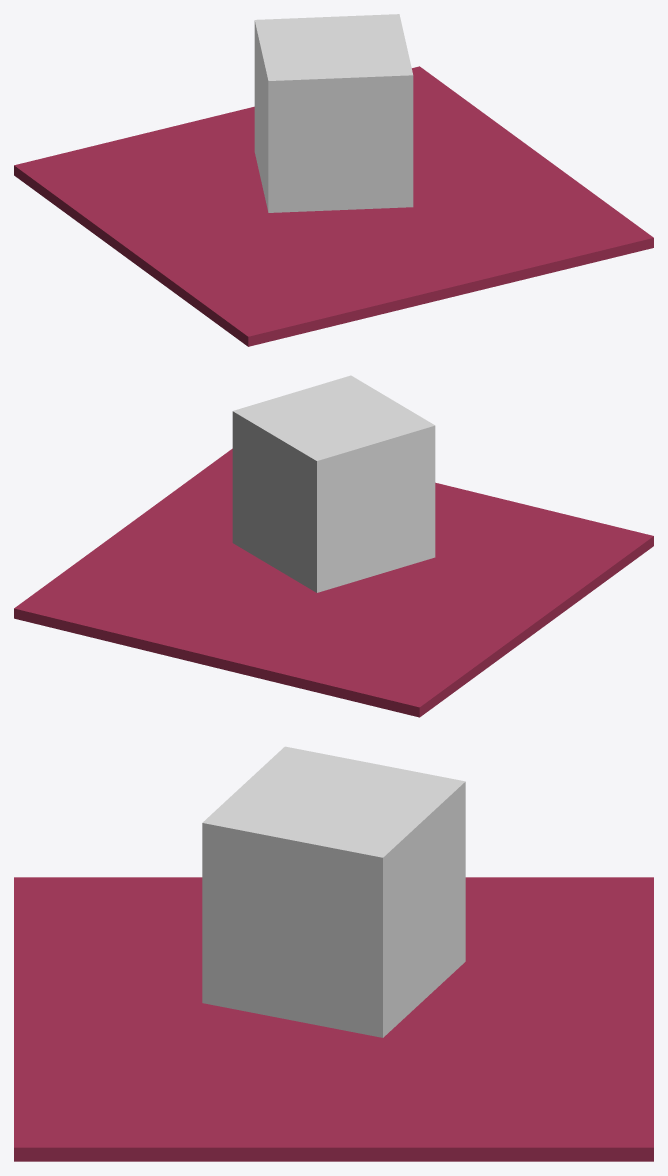
The model's file is Test_LightCamera.dae.
The picture shows the model from 3 angles, top to bottom: view 1: azimuth 30°, elevation 25°; view 2: azimuth 150°, elevation 25°; view 3: azimuth 270°, elevation 25°; orthographic projection. The views are drawn at different scales.
Visible parts, largest first — view 1: Cube, BigCube; view 2: Cube, BigCube; view 3: Cube, BigCube.
Boxes of the visible parts, x1,y1,x2,y2 form: Cube: (14, 66, 653, 346); BigCube: (254, 14, 413, 212); Cube: (14, 448, 653, 717); BigCube: (232, 375, 435, 592); Cube: (14, 877, 653, 1161); BigCube: (202, 746, 465, 1037).
Bounding box in the file's own units: 16.73 × 16.73 × 6.46.
